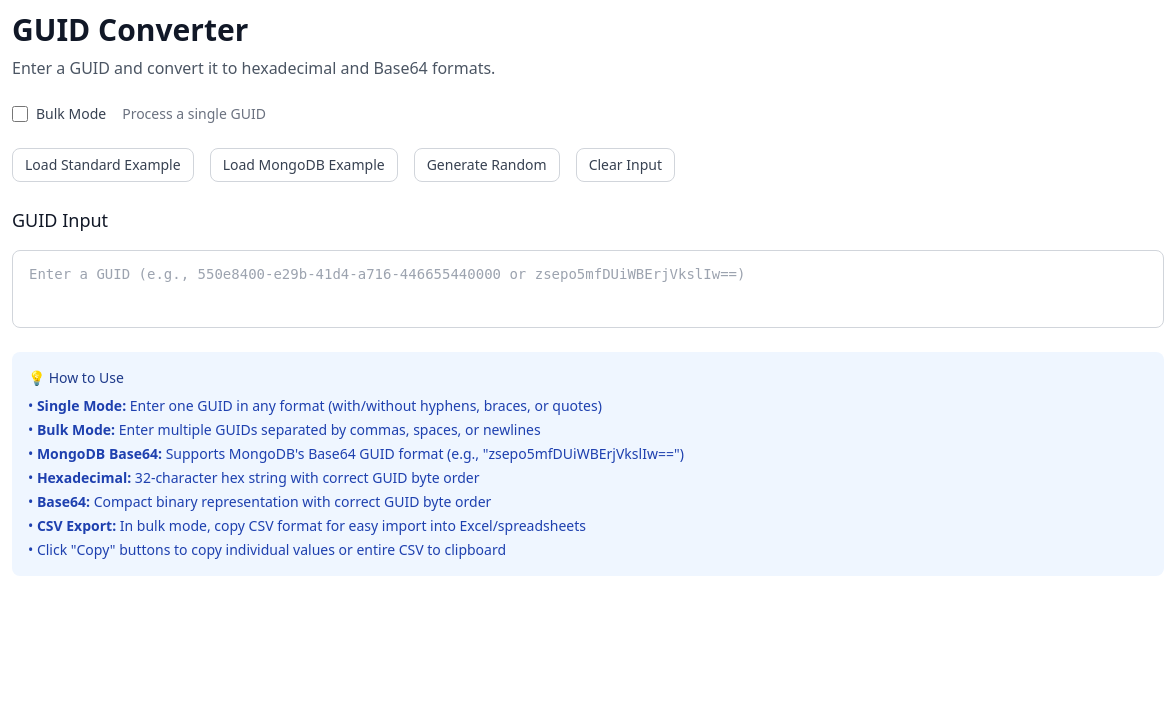
Test case: GuidConverter › Single Mode - Basic Functionality › should handle GUID without hyphens
Replace the text in the text box with "550e8400e29b41d4a716446655440000" at (588, 286), box [13,251,1163,320]
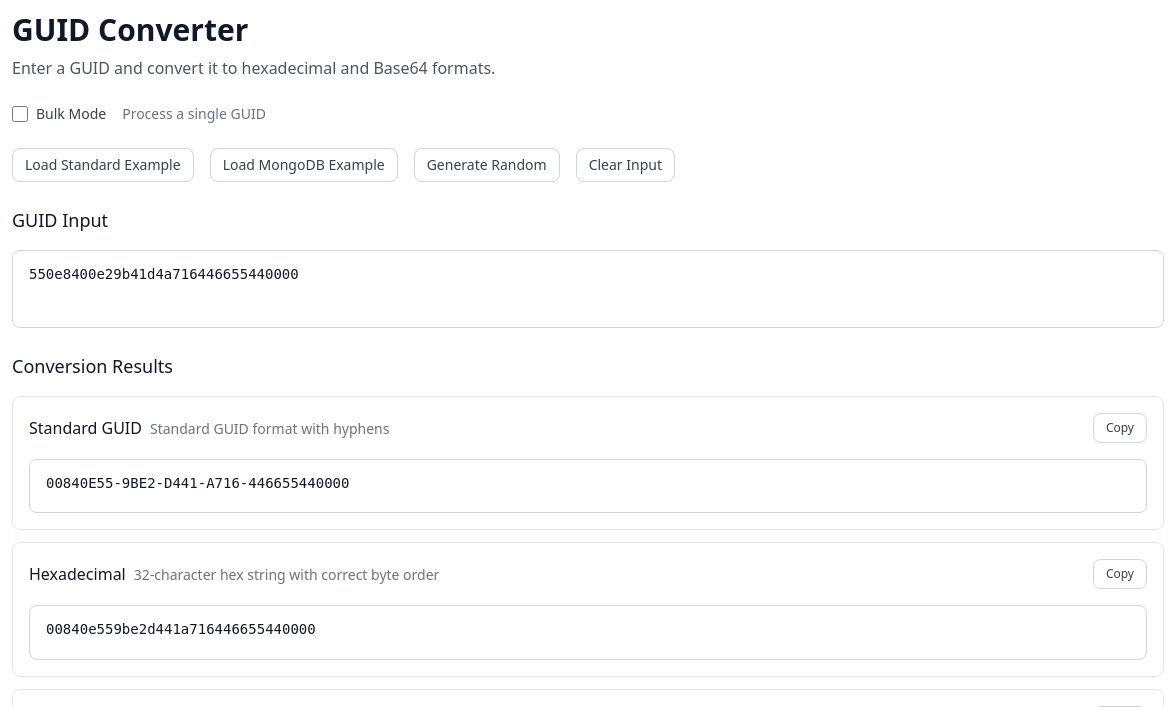
Expected: the heading "Conversion Results" is shown, [12,354,173,378]
